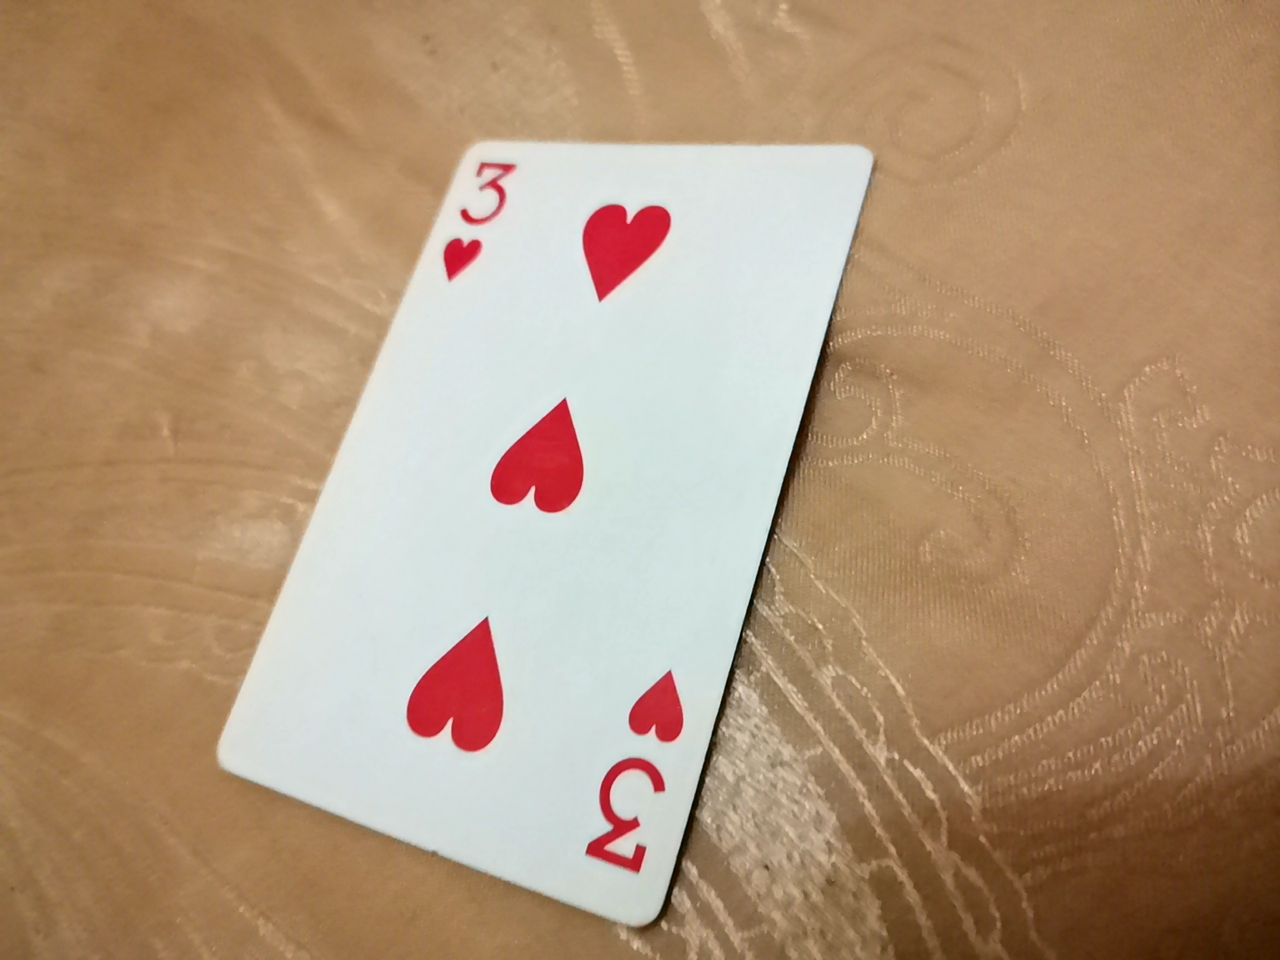hx 3: (209, 135, 891, 943)
